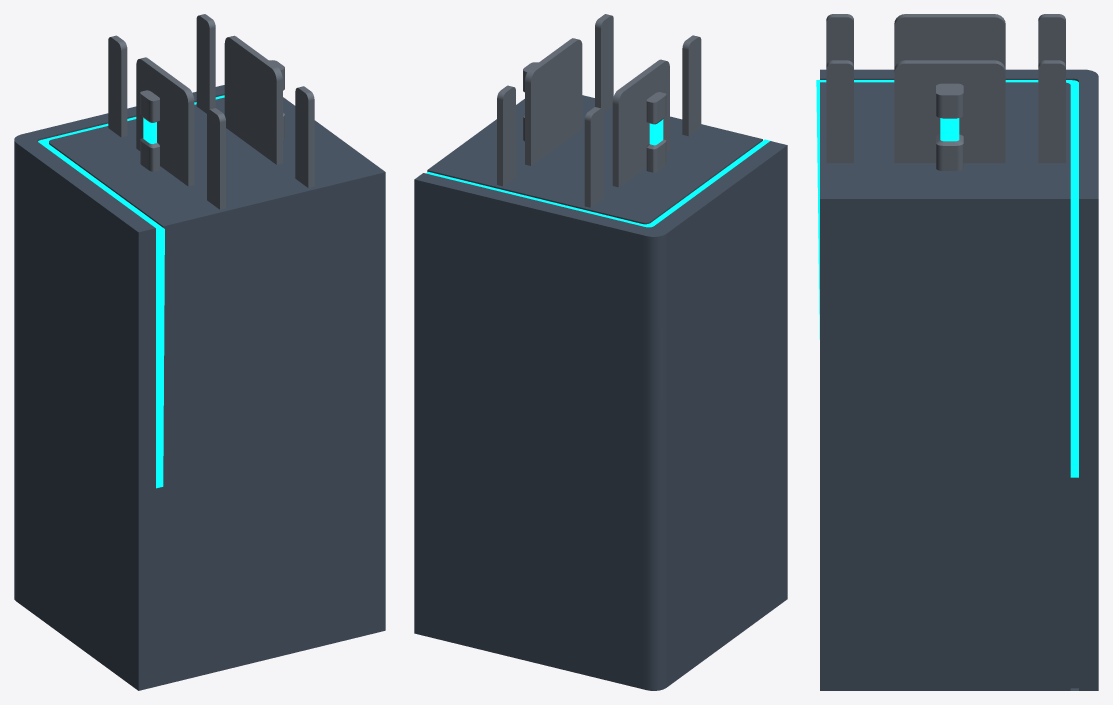
File: Nivel_2-Modulo7.fbx
3 renders of one model, left to right at view 1: azimuth 30°, elevation 25°; view 2: azimuth 150°, elevation 25°; view 3: azimuth 270°, elevation 25°, orthographic. The views are drawn at different scales.
Visible parts, largest first — view 1: Part5_1, pCube19, pCube23, Part5_2, pCube21, pCube24, pCube20, pCube22, columna6; view 2: Part5_1, pCube19, pCube23, pCube22, pCube24, pCube20, pCube21, Part5_2, columna6; view 3: Part5_1, pCube19, pCube23, Part5_2, pCube20, pCube21, columna5, pCube22, pCube24, polySurface13.
Boxes of the visible parts, x1=… form: Part5_1: x1=14, y1=85, x2=385, y2=690; pCube19: x1=224, y1=35, x2=282, y2=164; pCube23: x1=136, y1=57, x2=194, y2=186; Part5_2: x1=38, y1=95, x2=224, y2=488; pCube21: x1=295, y1=86, x2=314, y2=187; pCube24: x1=108, y1=35, x2=127, y2=137; pCube20: x1=196, y1=14, x2=215, y2=113; pCube22: x1=207, y1=108, x2=225, y2=209; columna6: x1=140, y1=90, x2=159, y2=171; Part5_1: x1=414, y1=95, x2=787, y2=690; pCube19: x1=525, y1=38, x2=582, y2=165; pCube23: x1=612, y1=59, x2=669, y2=187; pCube22: x1=682, y1=35, x2=701, y2=136; pCube24: x1=584, y1=107, x2=603, y2=207; pCube20: x1=497, y1=85, x2=515, y2=186; pCube21: x1=595, y1=14, x2=613, y2=112; Part5_2: x1=426, y1=139, x2=771, y2=227; columna6: x1=646, y1=92, x2=666, y2=172; Part5_1: x1=820, y1=69, x2=1098, y2=690; pCube19: x1=894, y1=60, x2=1005, y2=163; pCube23: x1=894, y1=14, x2=1005, y2=68; Part5_2: x1=816, y1=80, x2=1078, y2=477; pCube20: x1=1038, y1=60, x2=1065, y2=163; pCube21: x1=826, y1=60, x2=853, y2=163; columna5: x1=936, y1=83, x2=963, y2=170; pCube22: x1=826, y1=14, x2=853, y2=64; pCube24: x1=1038, y1=14, x2=1065, y2=64; polySurface13: x1=940, y1=118, x2=959, y2=141.
Size of the model in its own units: 11 by 23.45 by 10.13.
